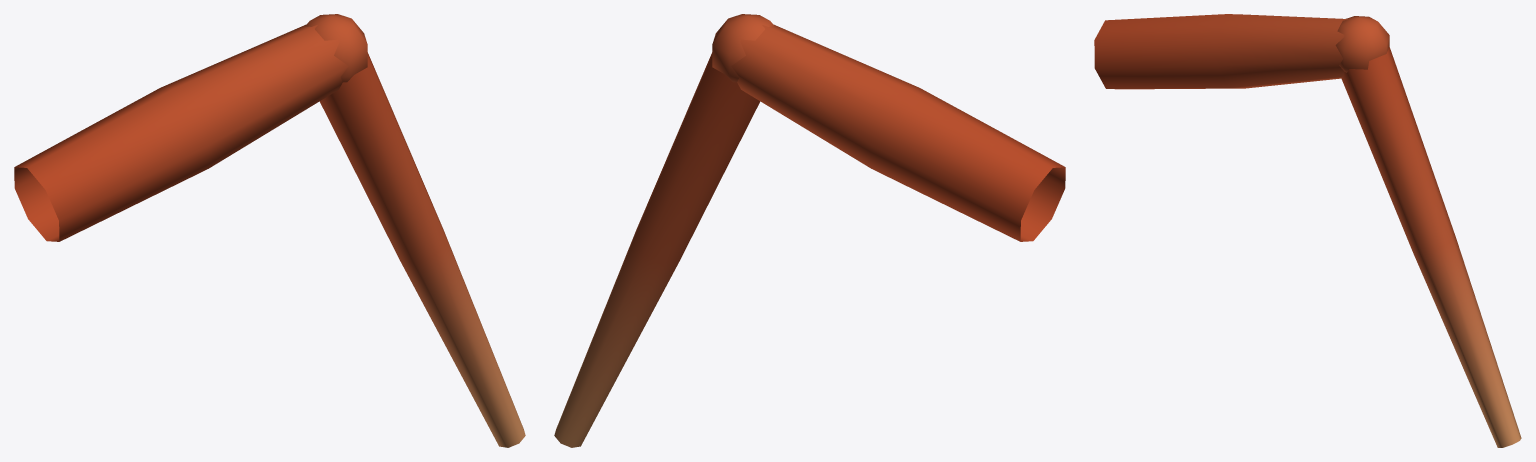
File: Crab_Leg1.fbx
3 renders of one model, left to right at view 1: azimuth 30°, elevation 25°; view 2: azimuth 150°, elevation 25°; view 3: azimuth 330°, elevation 25°, orthographic. The views are drawn at different scales.
Visible parts, largest first — view 1: Crab_Leg1; view 2: Crab_Leg1; view 3: Crab_Leg1.
Boxes of the visible parts, bbox=[...] form: Crab_Leg1: bbox=[14, 14, 525, 447]; Crab_Leg1: bbox=[554, 14, 1065, 447]; Crab_Leg1: bbox=[1094, 14, 1521, 447].
Size of the model in its own units: 0.3872 by 0.3506 by 0.0648.
